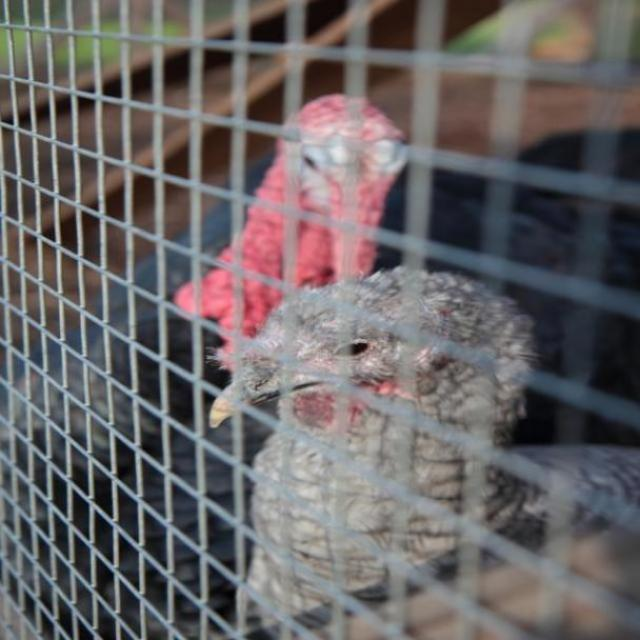Chicken: (184, 256, 624, 622)
